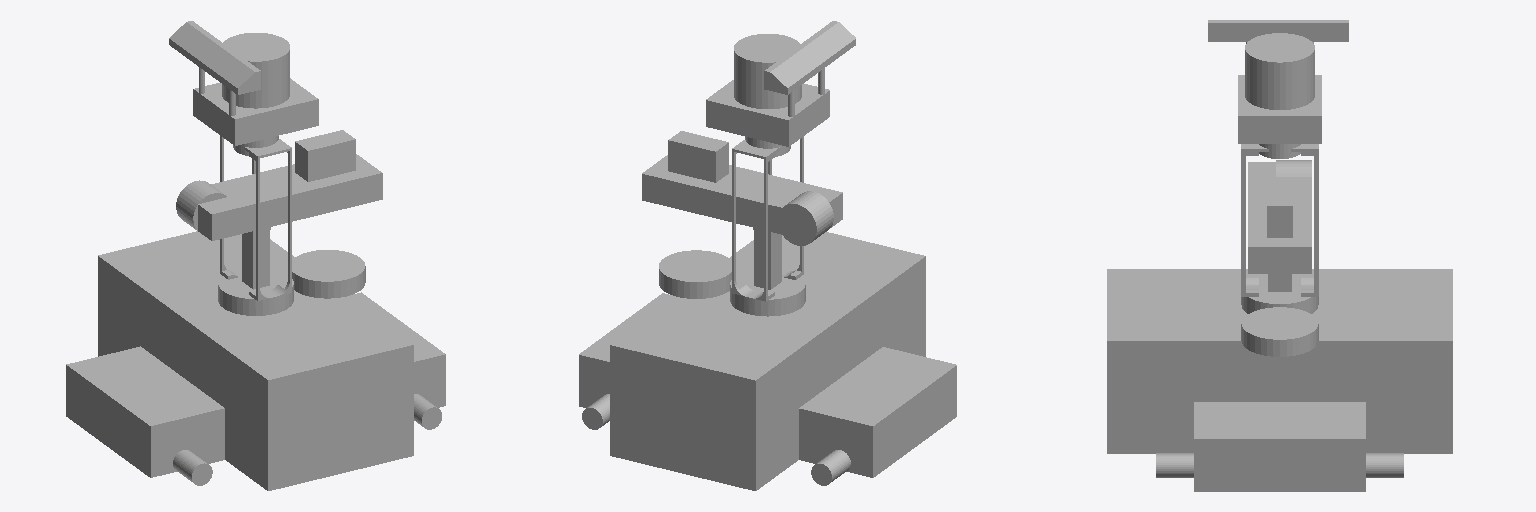
robot.urdf — uc2025_asm:
<?xml version="1.0" encoding="utf-8"?>
<!-- This URDF was automatically created by SolidWorks to URDF Exporter! Originally created by [author] ([email redacted]) 
     Commit Version: 1.6.0-4-g7f85cfe  Build Version: 1.6.7995.38578
     For more information, please see http://wiki.ros.org/sw_urdf_exporter -->
<robot
  name="uc2025_asm">
  <link
    name="base_link">
    <inertial>
      <origin
        xyz="14.4968209165816 7.99782539746296 0.027578006098971"
        rpy="0 0 0" />
      <mass
        value="165602.40303212" />
      <inertia
        ixx="2258192.5561425"
        ixy="-31395.6639640331"
        ixz="-0.673284054153577"
        iyy="6888923.77893801"
        iyz="0.567053377096229"
        izz="9143360.02362683" />
    </inertial>
    <visual>
      <origin
        xyz="0 0 0"
        rpy="0 0 0" />
      <geometry>
        <mesh
          filename="package://uc2025_asm/meshes/base_link.STL" />
      </geometry>
      <material
        name="">
        <color
          rgba="0.752941176470588 0.752941176470588 0.752941176470588 1" />
      </material>
    </visual>
    <collision>
      <origin
        xyz="0 0 0"
        rpy="0 0 0" />
      <geometry>
        <mesh
          filename="package://uc2025_asm/meshes/base_link.STL" />
      </geometry>
    </collision>
  </link>
</robot>

--- What the picture shows (computed from the rendered views, not written in the file) ---
Views: 3 orthographic renders of the robot side by side, from view 1: azimuth 30°, elevation 25°; view 2: azimuth 150°, elevation 25°; view 3: azimuth 270°, elevation 25°.
Robot: uc2025_asm — 1 links, 0 joints (none); root link base_link; default pose: every joint at zero.
Links seen in each view (by area): view 1: base_link; view 2: base_link; view 3: base_link.
Boxes of the visible links, x1,y1,x2,y2 form: base_link: (66,21,445,490); base_link: (579,21,956,490); base_link: (1107,20,1452,491).
Size in the robot's own frame: 0.495 by 0.495 by 0.6005 metres.
1 mesh visuals loaded from 1 distinct referenced files (1 binary STL).
